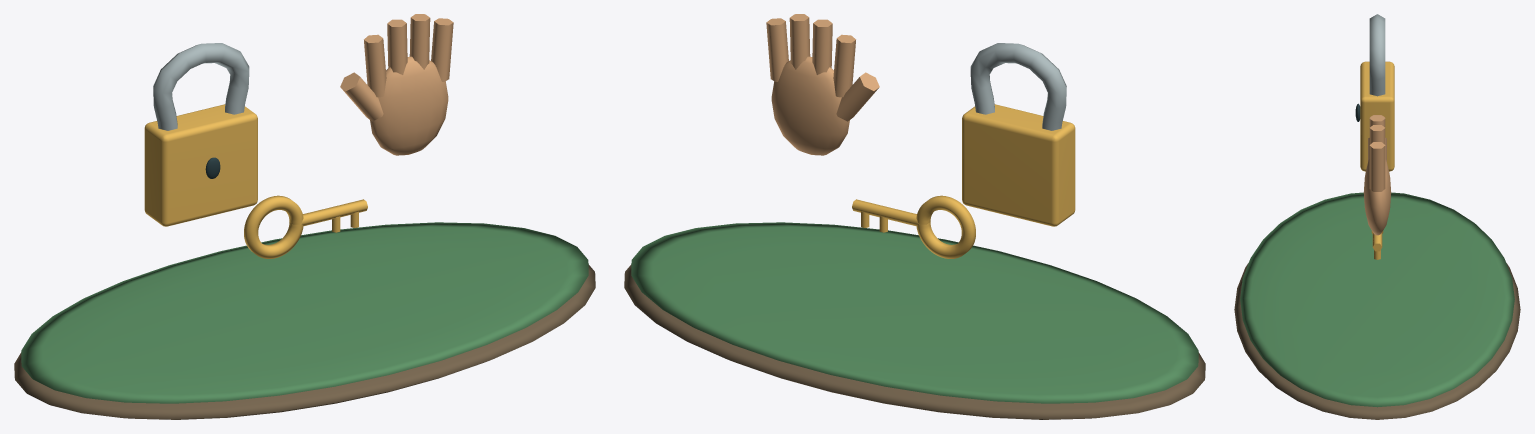
The model's file is complete-second-firm-hold.glb.
The picture shows the model from 3 angles, left to right: view 1: azimuth 30°, elevation 25°; view 2: azimuth 150°, elevation 25°; view 3: azimuth 270°, elevation 25°; orthographic projection. The views are drawn at different scales.
Visible parts, largest first — view 1: complete-second-firm-hold_surface_01, complete-second-firm-hold_surface_02, complete-second-firm-hold_surface_05, complete-second-firm-hold_surface_00, complete-second-firm-hold_surface_03; view 2: complete-second-firm-hold_surface_01, complete-second-firm-hold_surface_02, complete-second-firm-hold_surface_05, complete-second-firm-hold_surface_00, complete-second-firm-hold_surface_03; view 3: complete-second-firm-hold_surface_01, complete-second-firm-hold_surface_00, complete-second-firm-hold_surface_02, complete-second-firm-hold_surface_05, complete-second-firm-hold_surface_03.
Part boxes in pixels (<box>): complete-second-firm-hold_surface_01: <box>21,222,588,403</box>; complete-second-firm-hold_surface_02: <box>144,104,367,258</box>; complete-second-firm-hold_surface_05: <box>340,14,453,155</box>; complete-second-firm-hold_surface_00: <box>14,264,595,419</box>; complete-second-firm-hold_surface_03: <box>153,43,249,130</box>; complete-second-firm-hold_surface_01: <box>631,222,1198,403</box>; complete-second-firm-hold_surface_02: <box>852,104,1075,258</box>; complete-second-firm-hold_surface_05: <box>766,14,879,155</box>; complete-second-firm-hold_surface_00: <box>624,264,1205,419</box>; complete-second-firm-hold_surface_03: <box>970,43,1066,130</box>; complete-second-firm-hold_surface_01: <box>1240,192,1514,407</box>; complete-second-firm-hold_surface_00: <box>1234,263,1520,419</box>; complete-second-firm-hold_surface_02: <box>1360,61,1394,259</box>; complete-second-firm-hold_surface_05: <box>1363,115,1391,235</box>; complete-second-firm-hold_surface_03: <box>1369,14,1385,96</box>.
Size of the model in its own units: 4.56 by 2.54 by 2.5.
